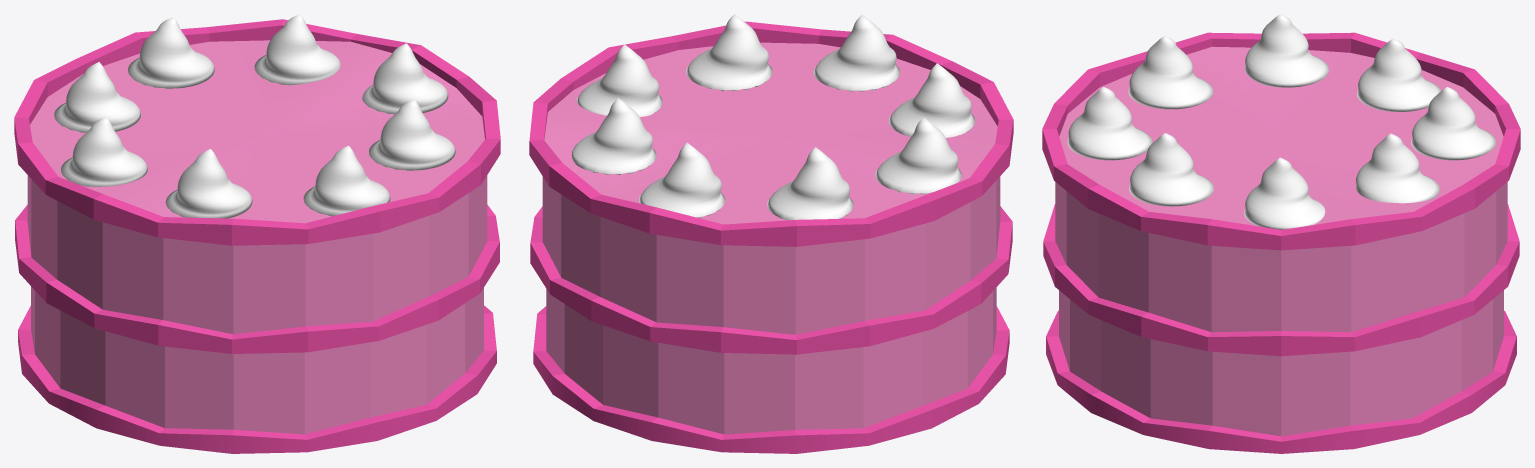
File: cakeFBX.fbx
The picture shows the model from 3 angles, left to right: view 1: azimuth 30°, elevation 25°; view 2: azimuth 150°, elevation 25°; view 3: azimuth 270°, elevation 25°; orthographic projection. The views are drawn at different scales.
Visible parts, largest first — view 1: pCone10; view 2: pCone10; view 3: pCone10.
Boxes of the visible parts, x1,y1,x2,y2 form: pCone10: (14, 14, 500, 453); pCone10: (529, 14, 1013, 453); pCone10: (1042, 14, 1520, 453).
Size of the model in its own units: 10.44 by 6.45 by 10.44.
